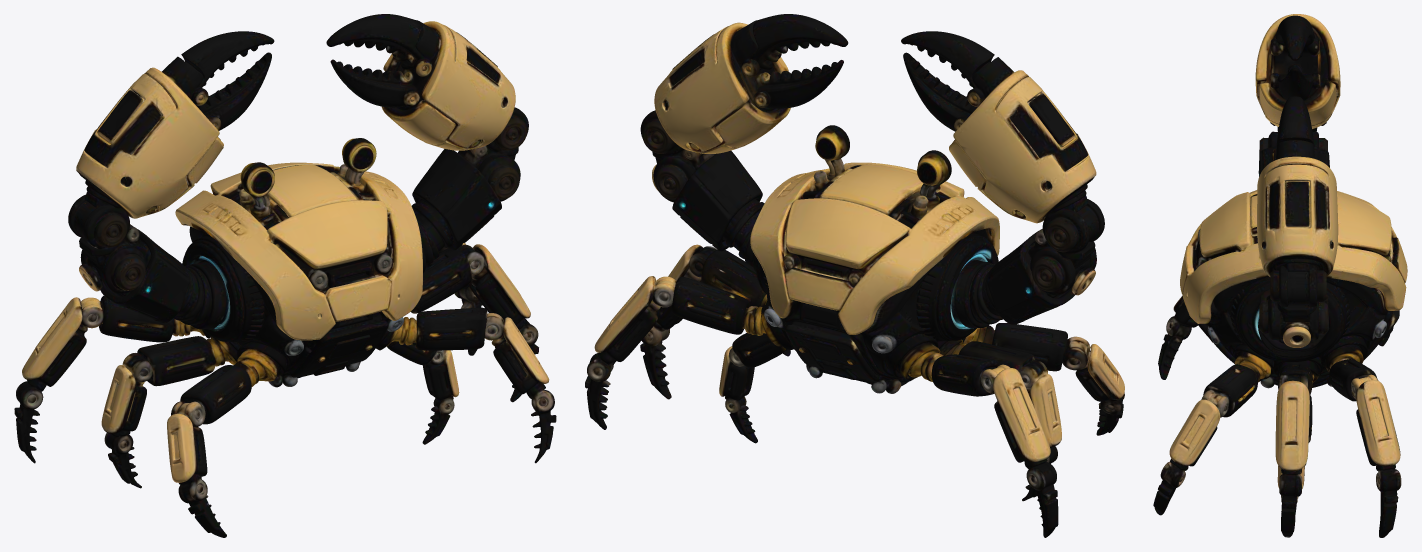
Rendered from pixellabs-futuristic-crab-machine-2554.high.glb.
3 renders of one model, left to right at view 1: azimuth 30°, elevation 25°; view 2: azimuth 150°, elevation 25°; view 3: azimuth 270°, elevation 25°, orthographic. The views are drawn at different scales.
Parts seen in each view (by area): view 1: texture_v128_768.001; view 2: texture_v128_768.001; view 3: texture_v128_768.001.
Boxes of the visible parts, box(x1,y1,x2,y2) form: texture_v128_768.001: box(14, 14, 556, 537); texture_v128_768.001: box(585, 14, 1124, 537); texture_v128_768.001: box(1153, 14, 1407, 537).
Bounding box in the file's own units: 0.9053 × 0.8427 × 0.4741.
1 material, 1 textured.
